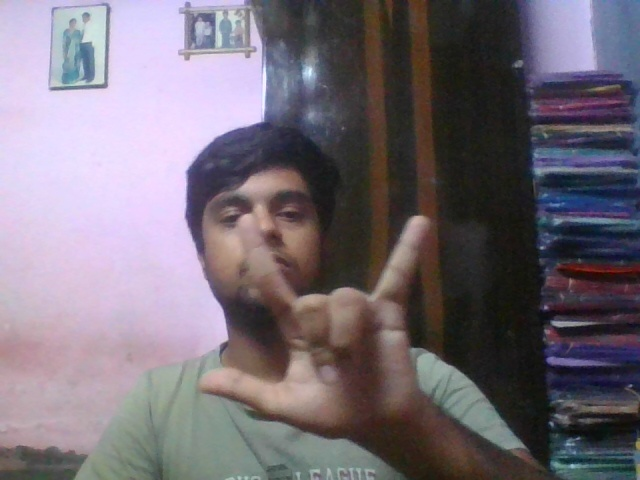I Love You: (194, 199, 451, 449)
